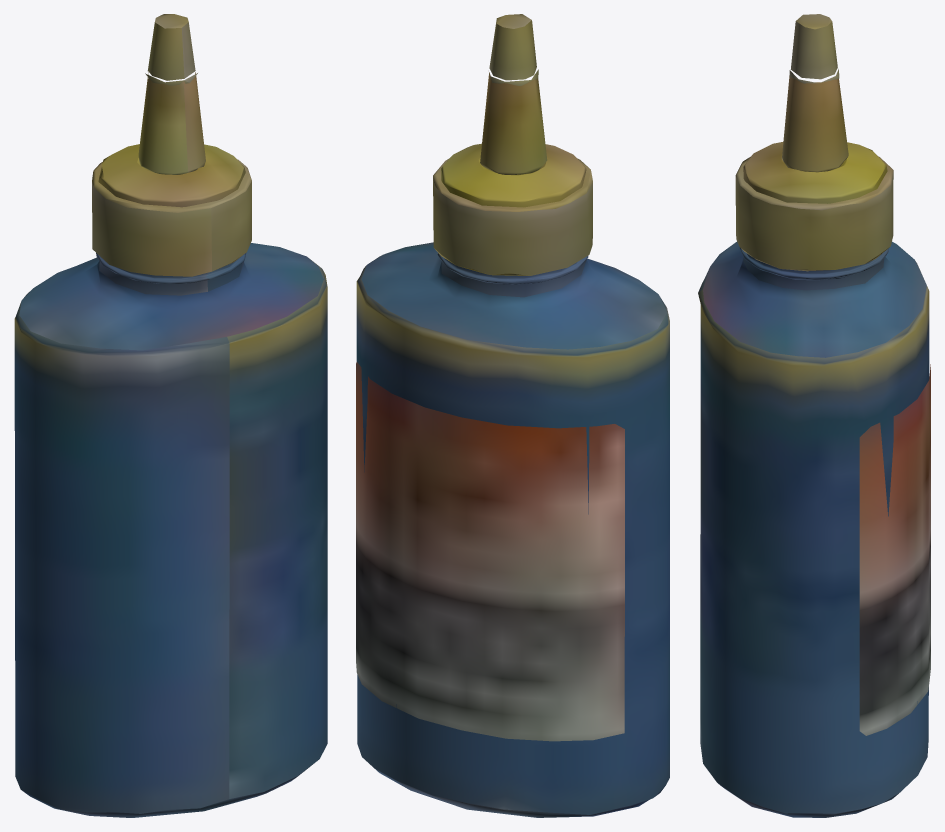
Rendered from SM_CleaingSolution_B01_N1.glb.
3 renders of one model, left to right at view 1: azimuth 30°, elevation 25°; view 2: azimuth 150°, elevation 25°; view 3: azimuth 270°, elevation 25°, orthographic.
Parts seen in each view (by area): view 1: SM_CleaingSolution_B01_N1; view 2: SM_CleaingSolution_B01_N1; view 3: SM_CleaingSolution_B01_N1.
Boxes of the visible parts, <box> form: SM_CleaingSolution_B01_N1: <box>14,14,327,817</box>; SM_CleaingSolution_B01_N1: <box>356,14,669,817</box>; SM_CleaingSolution_B01_N1: <box>698,14,930,817</box>.
Size of the model in its own units: 0.0628 by 0.1542 by 0.0444.
1 material, 1 textured.
